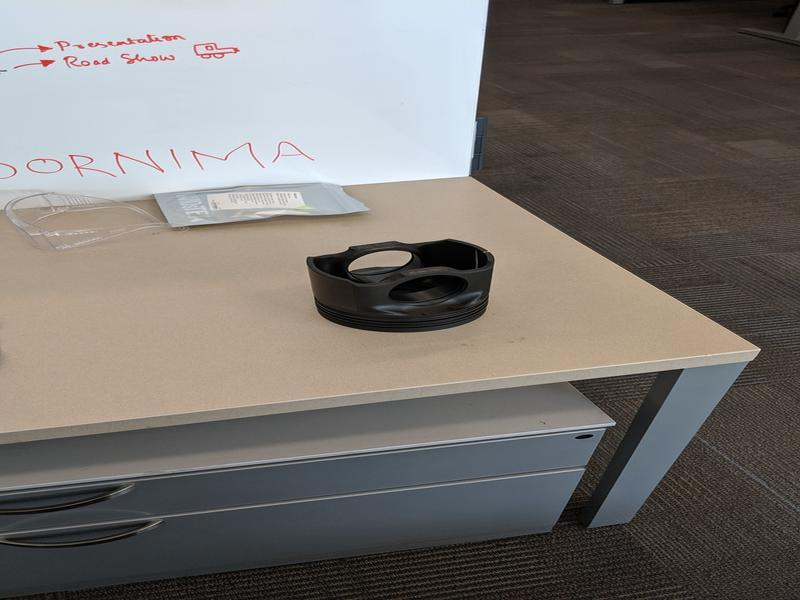piston: (300, 235, 498, 336)
